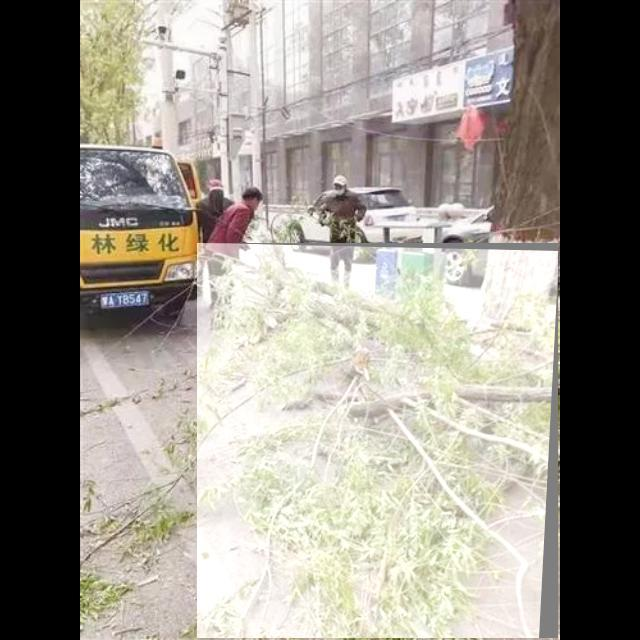fallen_tree: (197, 243, 559, 639)
